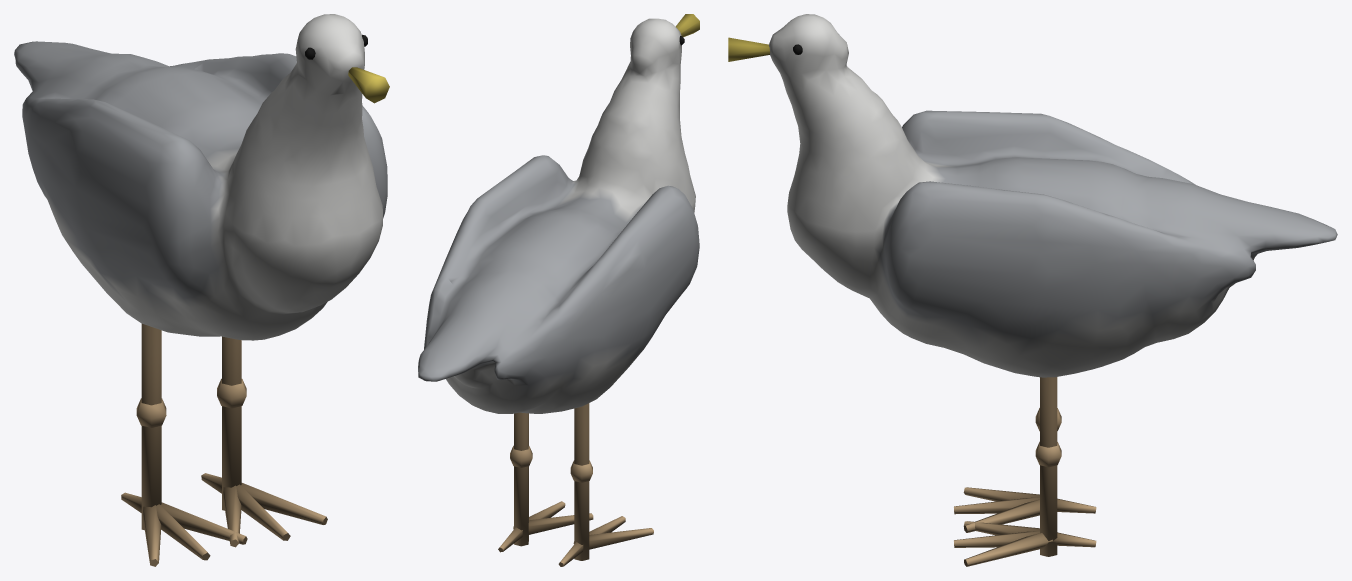
The model's file is moewe.glb.
3 views of the same model, side by side, from view 1: azimuth 30°, elevation 25°; view 2: azimuth 150°, elevation 25°; view 3: azimuth 270°, elevation 25° (orthographic). The views are drawn at different scales.
Visible parts, largest first — view 1: lack; view 2: lack; view 3: lack.
Part boxes in pixels (<box>): lack: <box>14,14,389,566</box>; lack: <box>418,14,699,566</box>; lack: <box>728,14,1337,566</box>.
Bounding box in the file's own units: 0.1532 × 0.361 × 0.3841.
